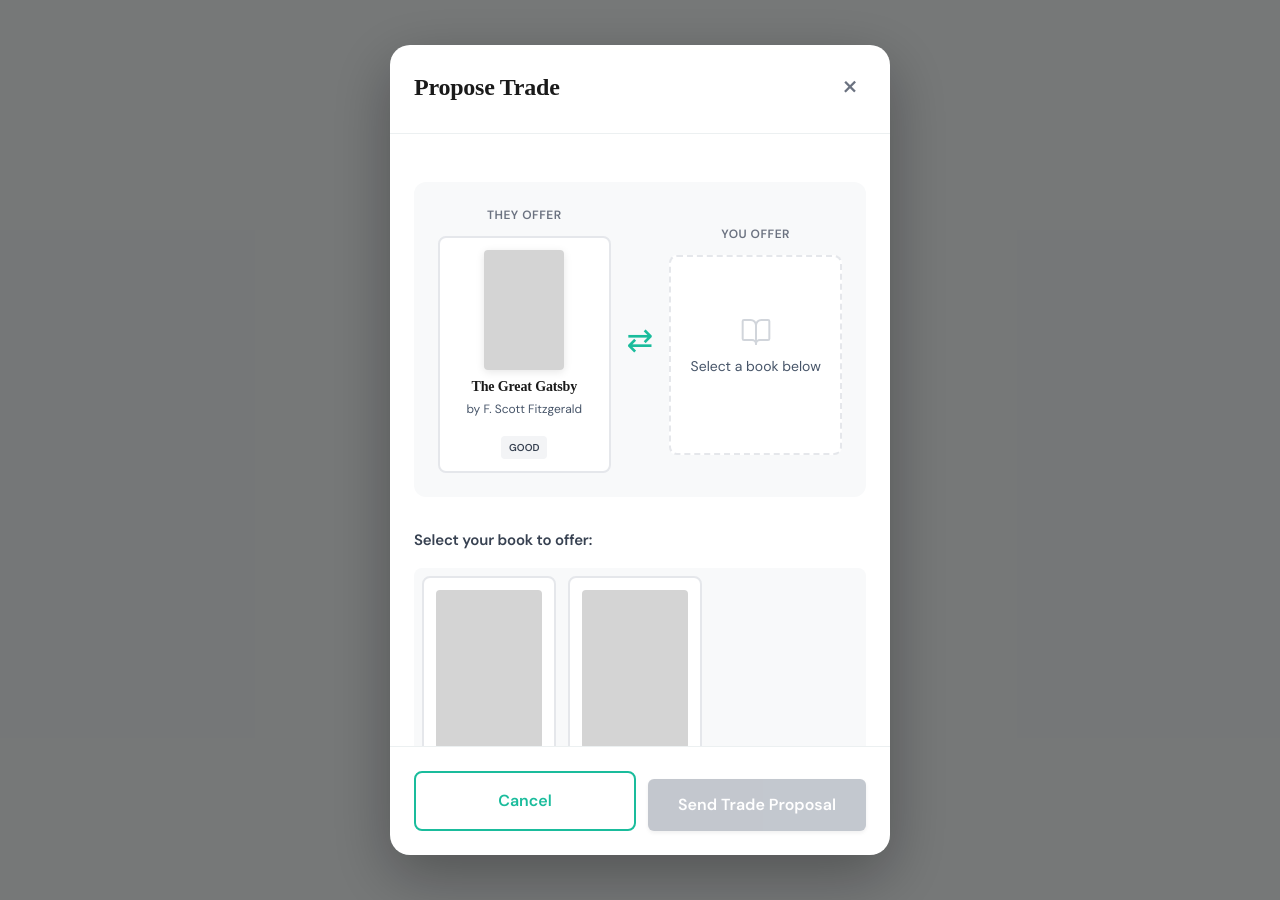
Test: TradeProposalModal › allows selecting a book to offer
Step 1. Click the text "To Kill a Mockingbird" → x=489, y=705, box [422,576,556,834]
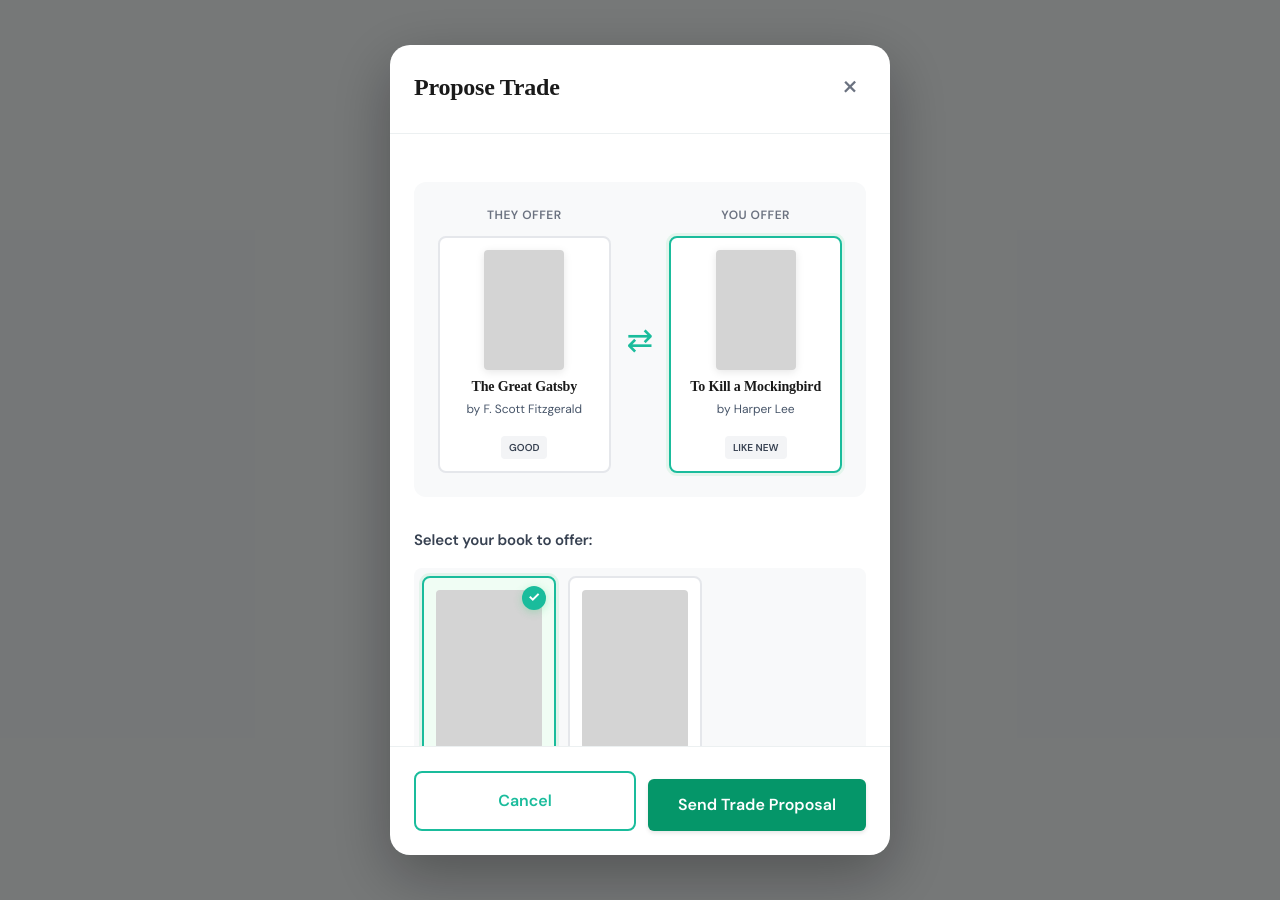
Result: the text "✓" is shown at [522,586,546,610]
